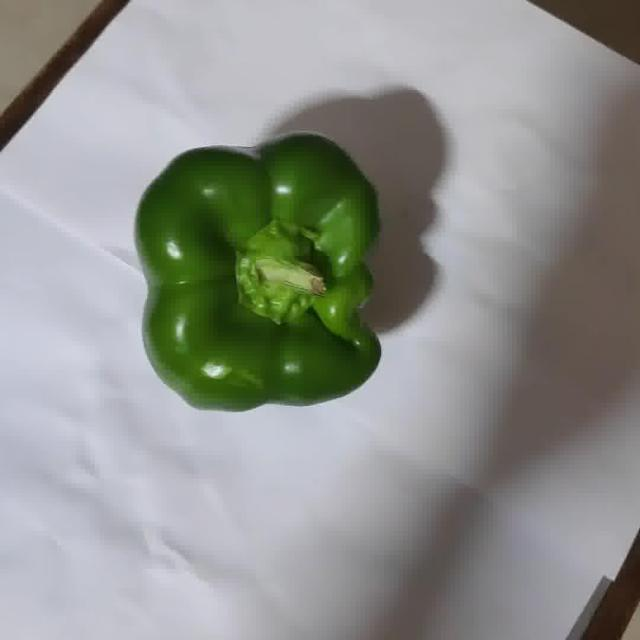Bell Pepper: (136, 134, 380, 411)
